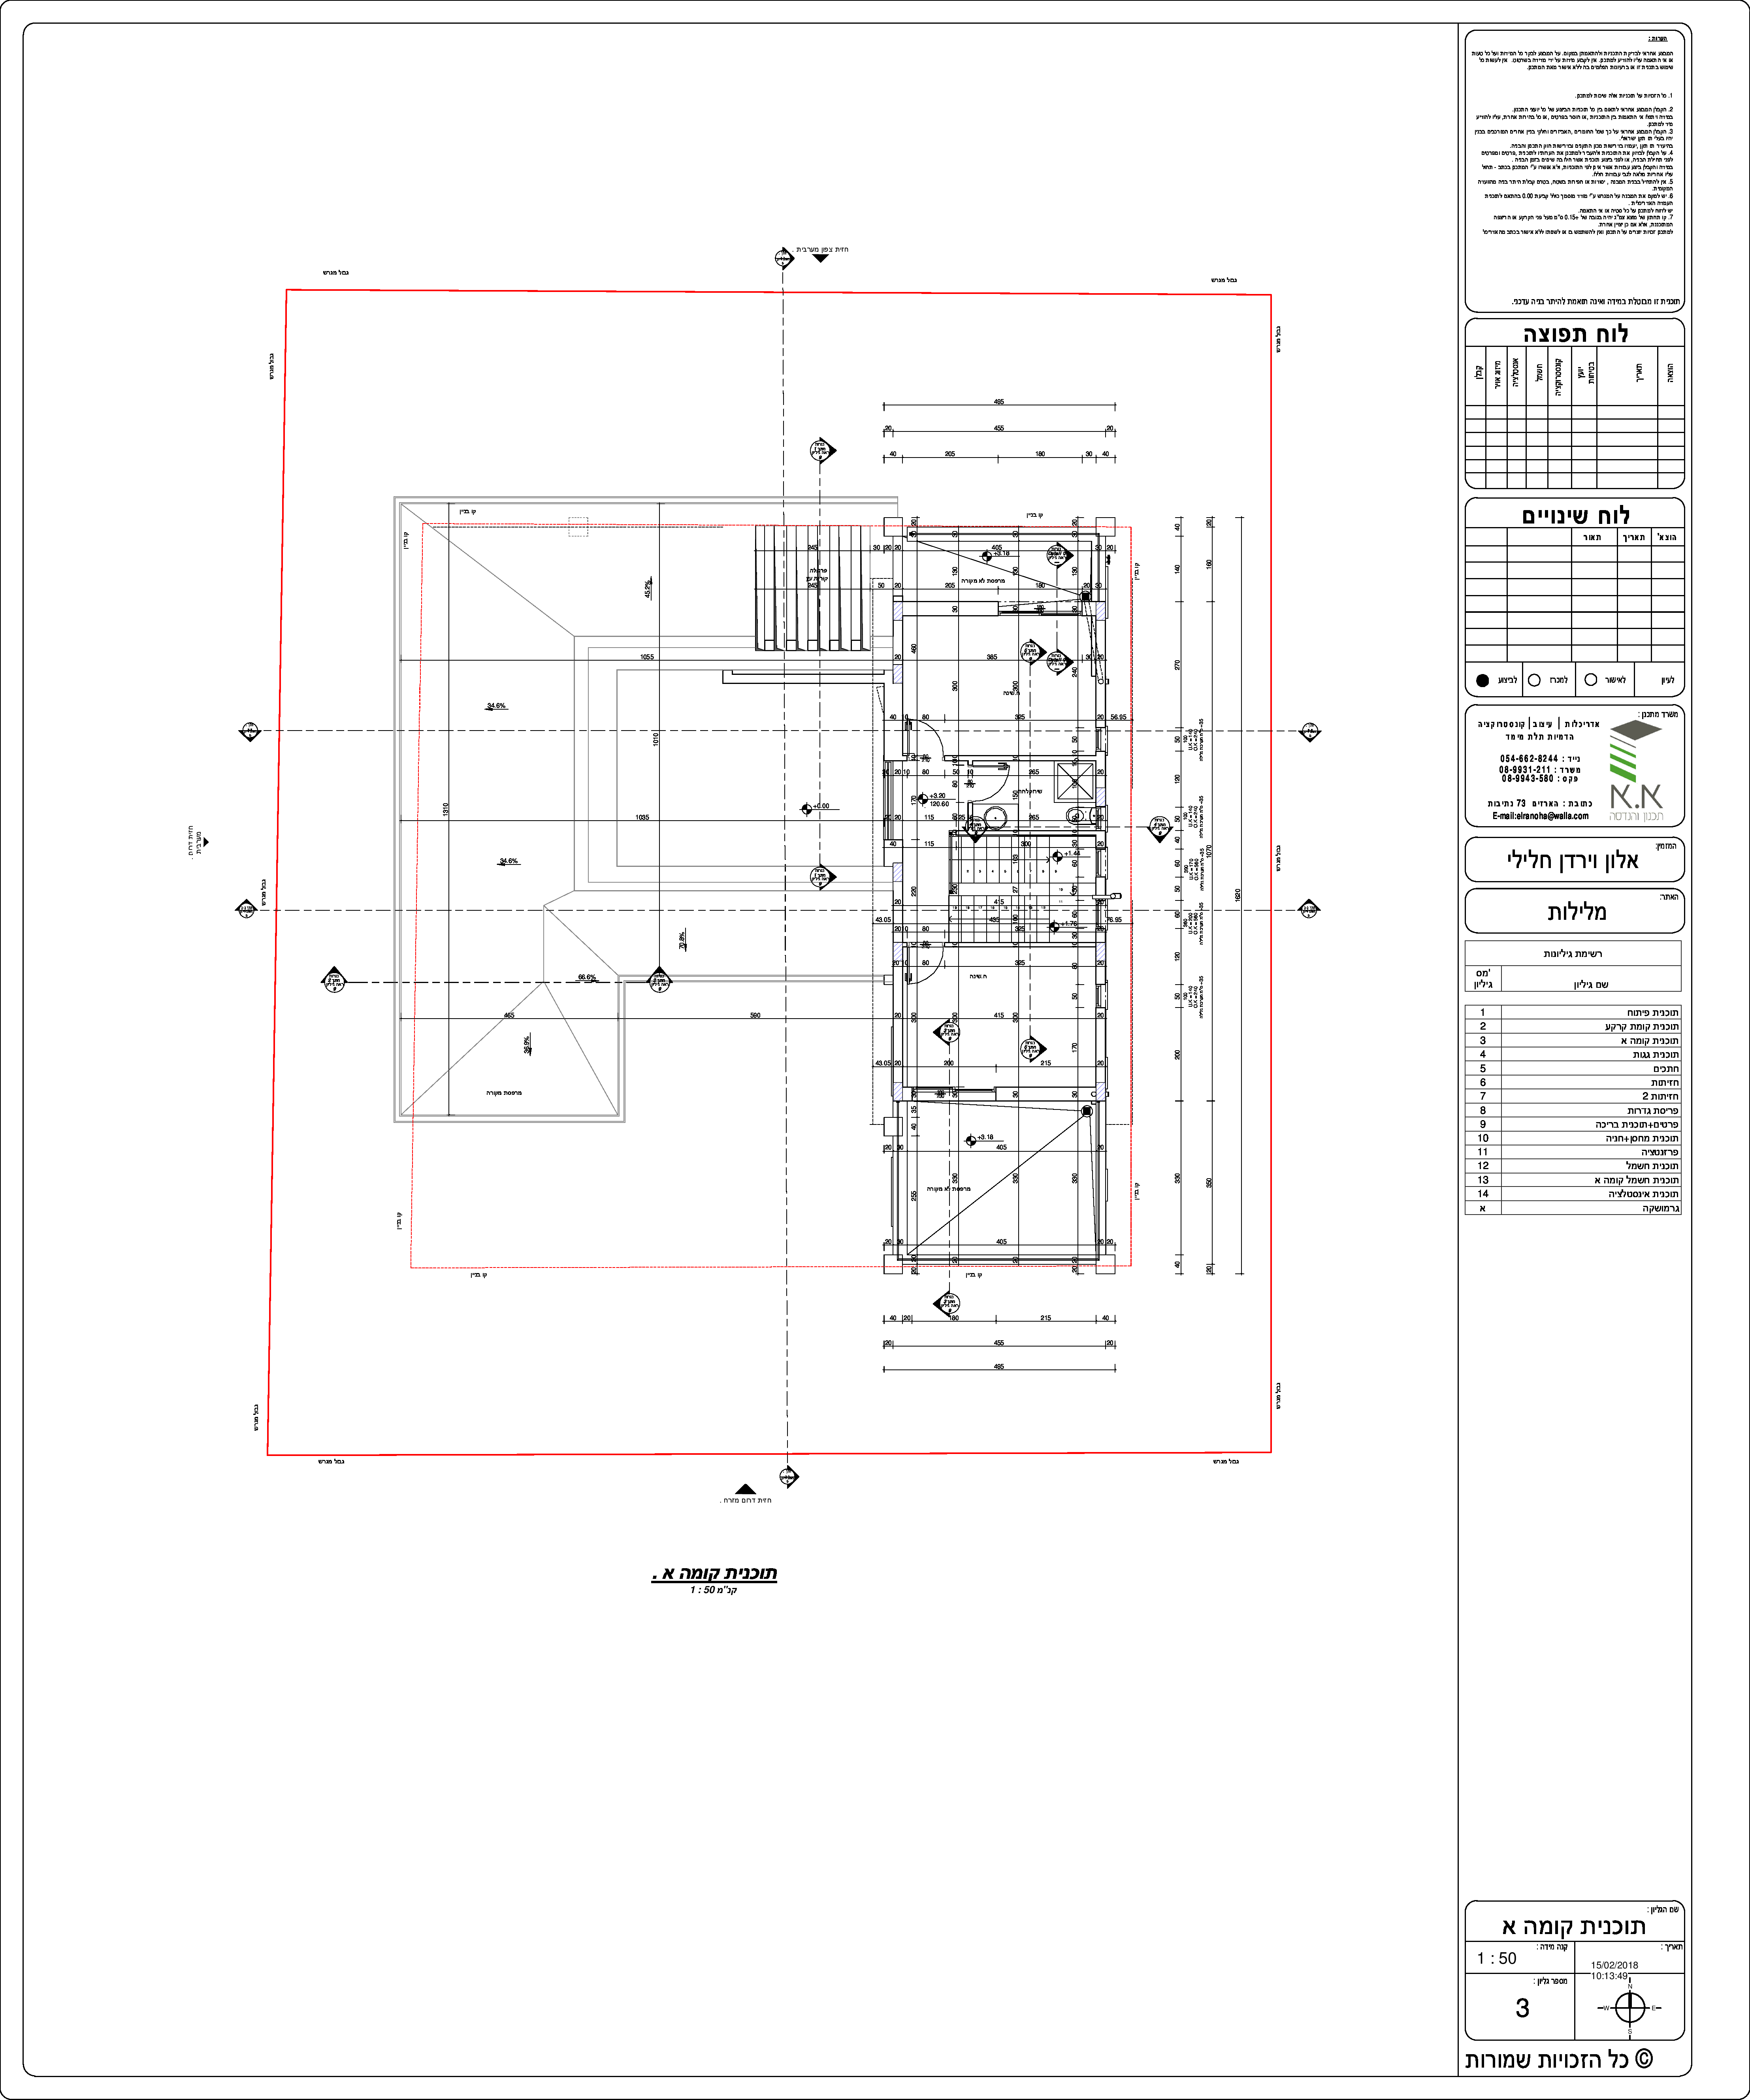door: (904, 954, 949, 989), (979, 762, 1012, 802), (914, 720, 942, 752)
window: (1094, 849, 1103, 877), (1094, 984, 1103, 1008), (1096, 727, 1101, 752)
